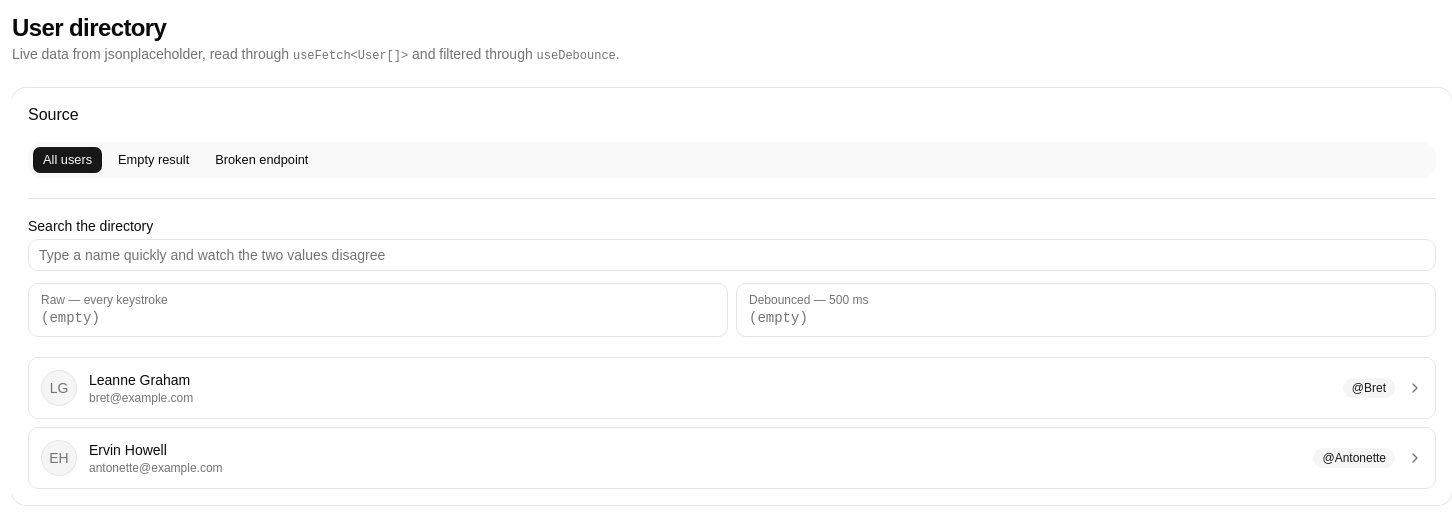
Scenario: UsersPage › brings everyone back when the box is cleared
This screenshot has width=1452, height=523.
Check: the text "Leanne Graham" is shown, box [89, 372, 190, 388]
Type "ervin" into the search field labelled "Search the directory" at (732, 255), box [28, 239, 1436, 271]
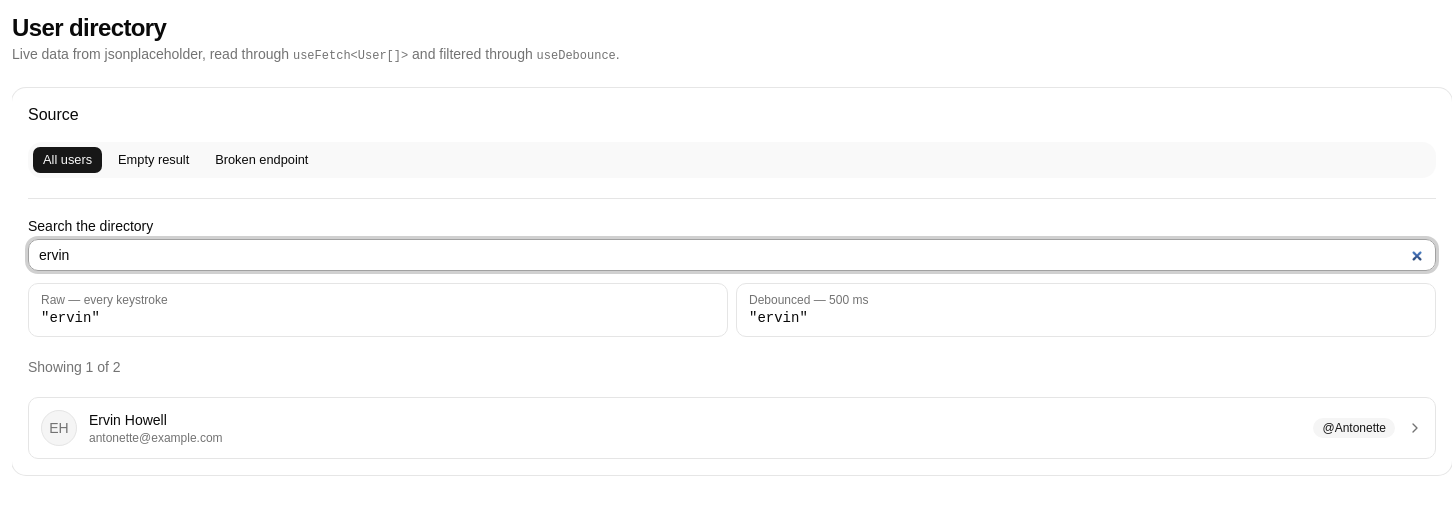
Check: the text "Showing 1 of 2" is shown, box [28, 359, 121, 375]
Check: the link "Leanne Graham" is gone
Clear the search field labelled "Search the directory" at (732, 255), box [28, 239, 1436, 271]
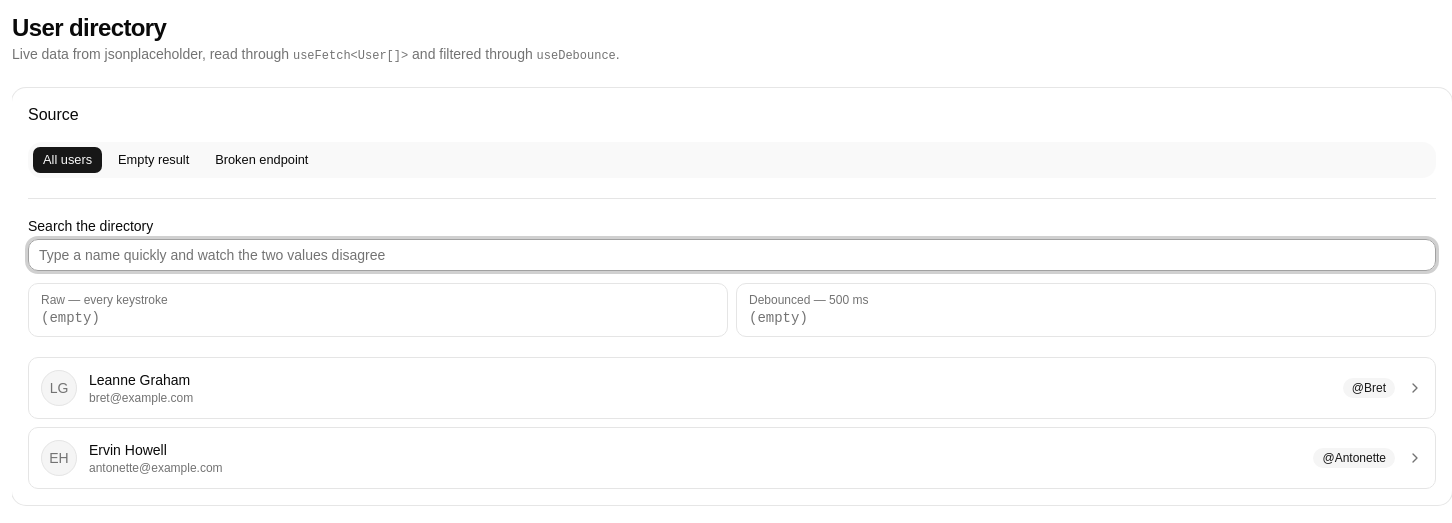
Check: the text "Ervin Howell" is shown, box [89, 442, 167, 458]
Check: the text "Leanne Graham" is shown, box [89, 372, 190, 388]
